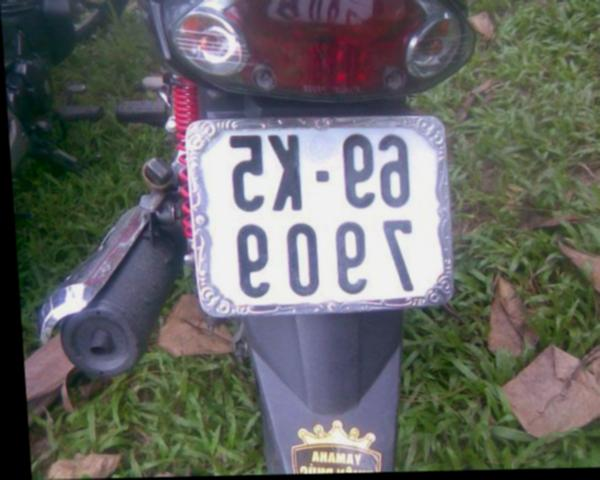License_Plate: (187, 113, 455, 319)
